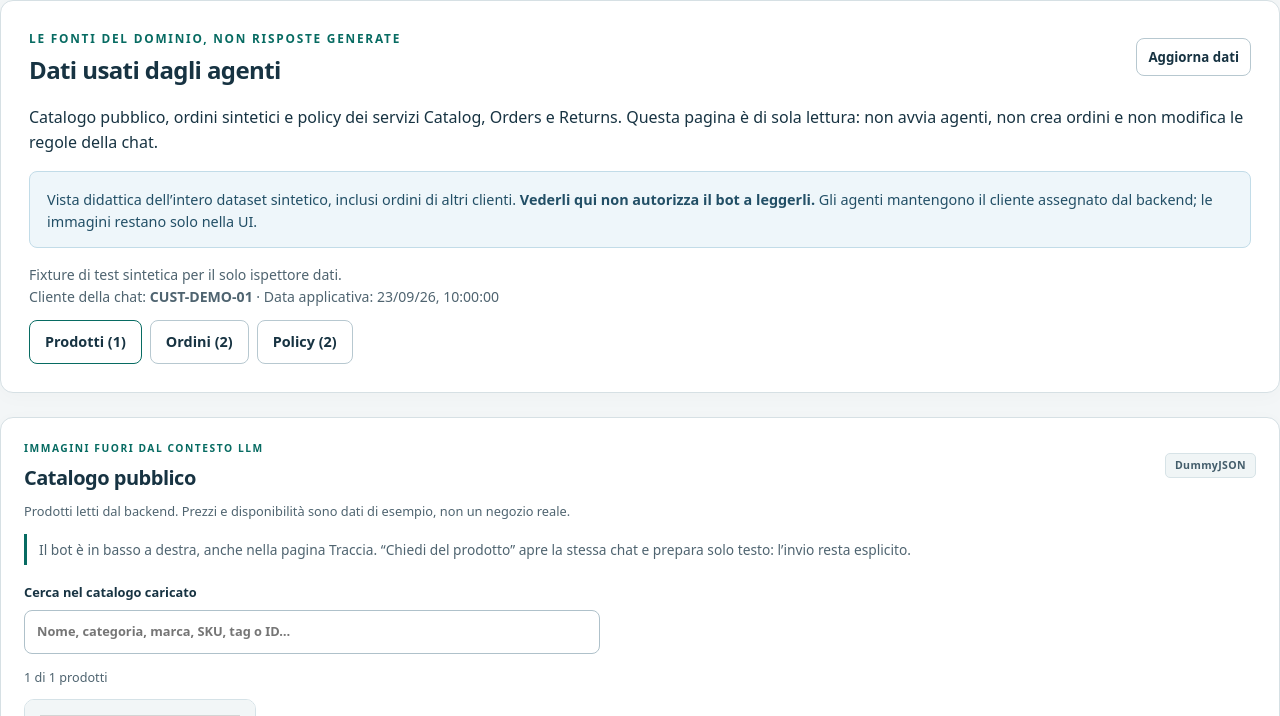
it: pagina dati in sola lettura › mostra testi, identificativi, priorità e versioni di tutte le policy
Click the button "Policy (2)" at [305, 342], box [257,320,353,364]
(page scrolled)
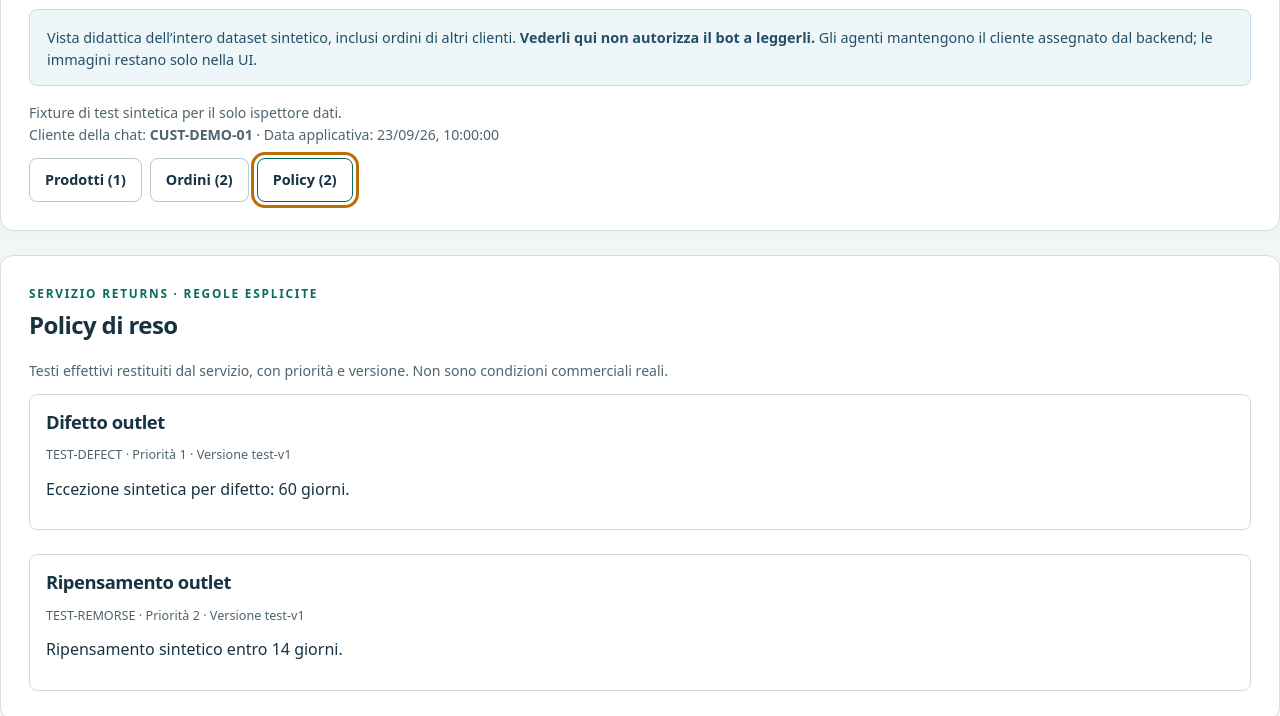
Result: the heading "Difetto outlet" is shown at [46,409,165,434]
Result: the element that starts with "Difetto outlet" shows "Eccezione sintetica per difetto: 60 giorni." at [46,478,350,500]
Result: the heading "Ripensamento outlet" is shown at [46,569,231,594]
